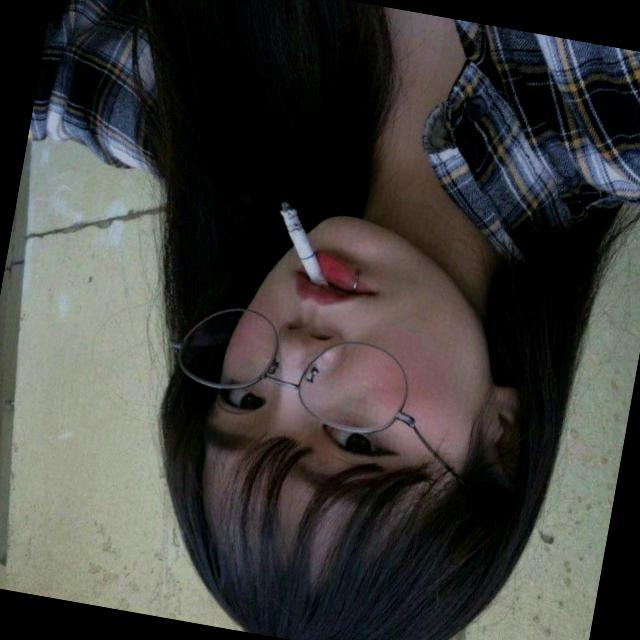cigarette: (243, 171, 364, 310)
